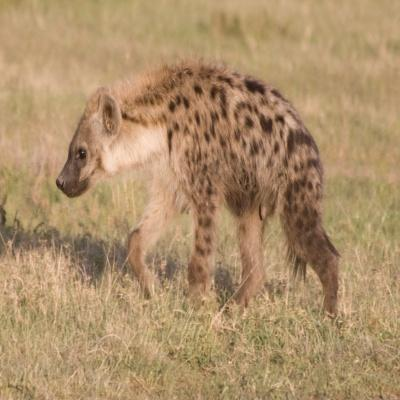hyenas: (18, 24, 400, 347)
